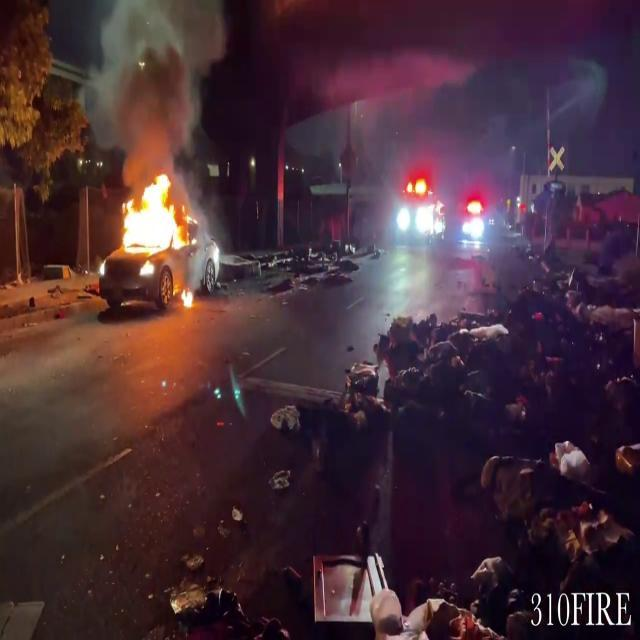Fire: (111, 168, 195, 262)
Smoke: (287, 0, 527, 137), (83, 0, 228, 170)
